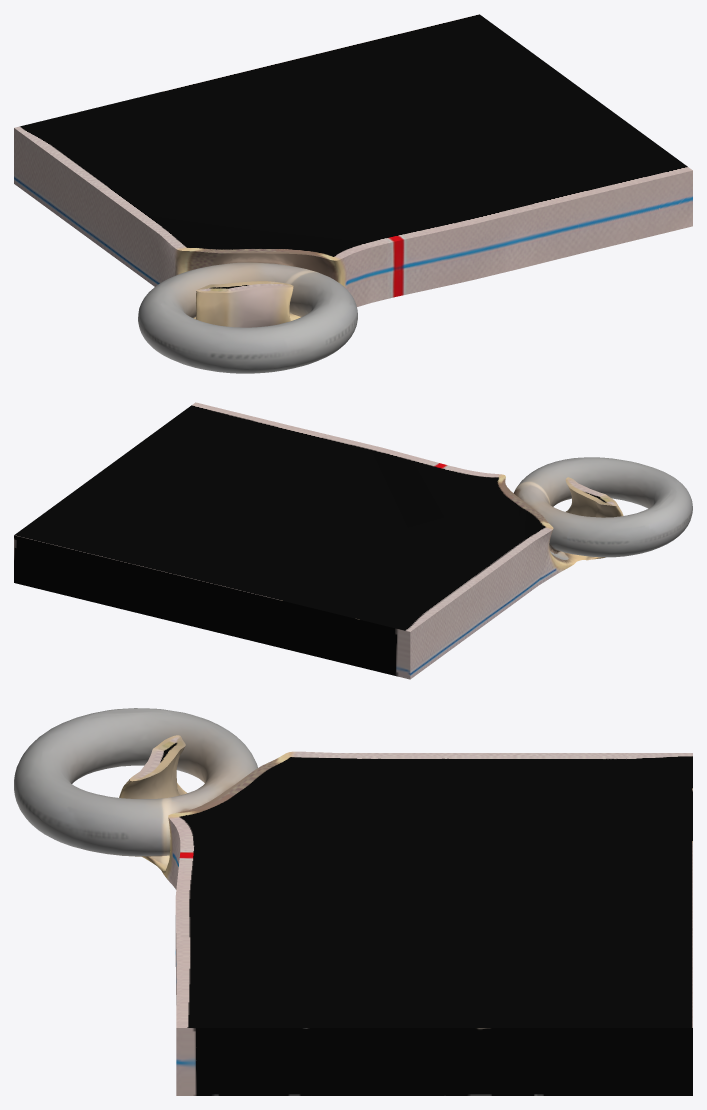
File: 9-roof-front-left.fbx
3 renders of one model, top to bottom at view 1: azimuth 30°, elevation 25°; view 2: azimuth 150°, elevation 25°; view 3: azimuth 270°, elevation 25°, orthographic. The views are drawn at different scales.
Parts seen in each view (by area): view 1: roof-front-left; view 2: roof-front-left; view 3: roof-front-left.
Part boxes in pixels (bbox=[...]): roof-front-left: bbox=[14, 14, 692, 373]; roof-front-left: bbox=[14, 402, 692, 679]; roof-front-left: bbox=[14, 708, 692, 1095].
Bounding box in the file's own units: 7963 × 770 × 6949.
Materials: 1 (1 with a texture image).
